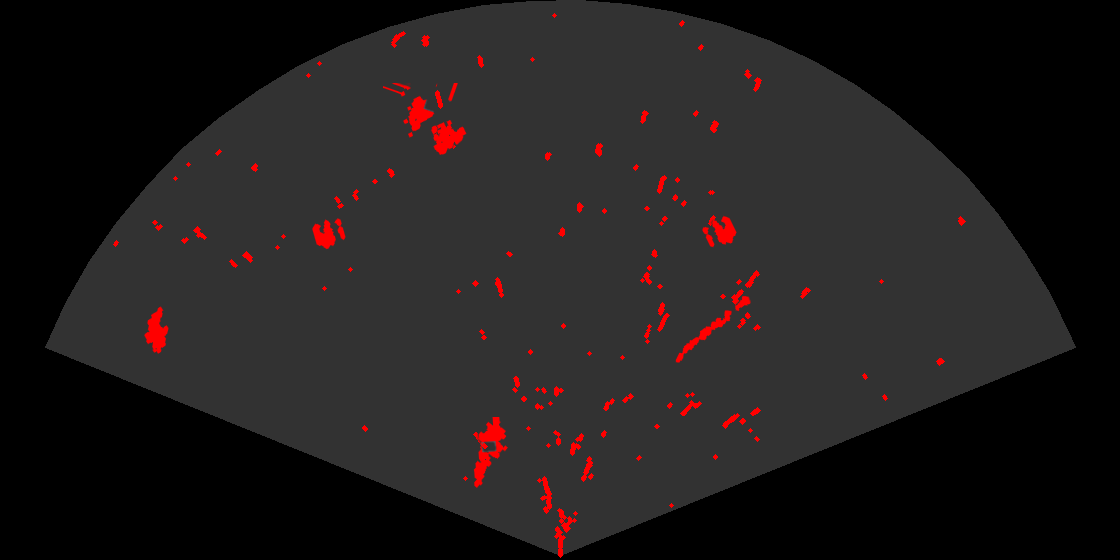AUV: (143, 305, 170, 355)
ball: (701, 214, 738, 249), (311, 217, 347, 251)
cage: (383, 83, 468, 156)
chain: (674, 294, 752, 364)
frogman: (472, 417, 509, 488)
